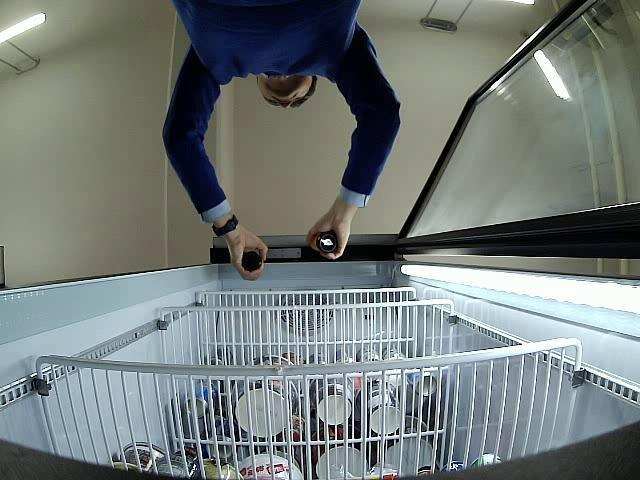17_vita500: (308, 230, 341, 255), (240, 249, 262, 272)
